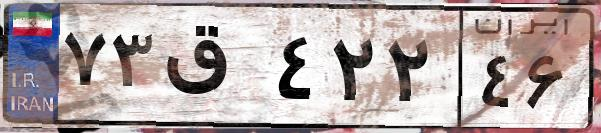2: (385, 28, 445, 110), (330, 28, 385, 110)
3: (110, 28, 158, 98)
4: (270, 28, 330, 110), (475, 38, 525, 113)
6: (525, 38, 570, 115)
7: (57, 26, 110, 100)
ق: (158, 20, 270, 120)
